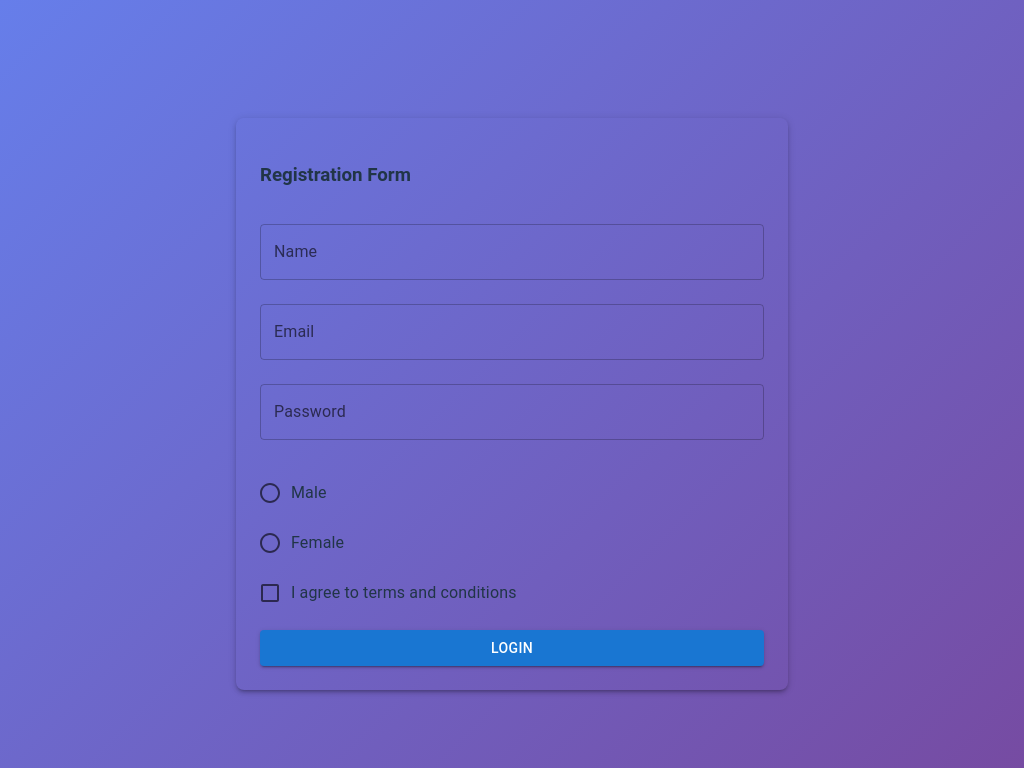
Scenario: Login Form Component › SHOWS ERROR when fields are empty
Click the button "login" at coordinates (512, 648), box [260, 630, 764, 666]
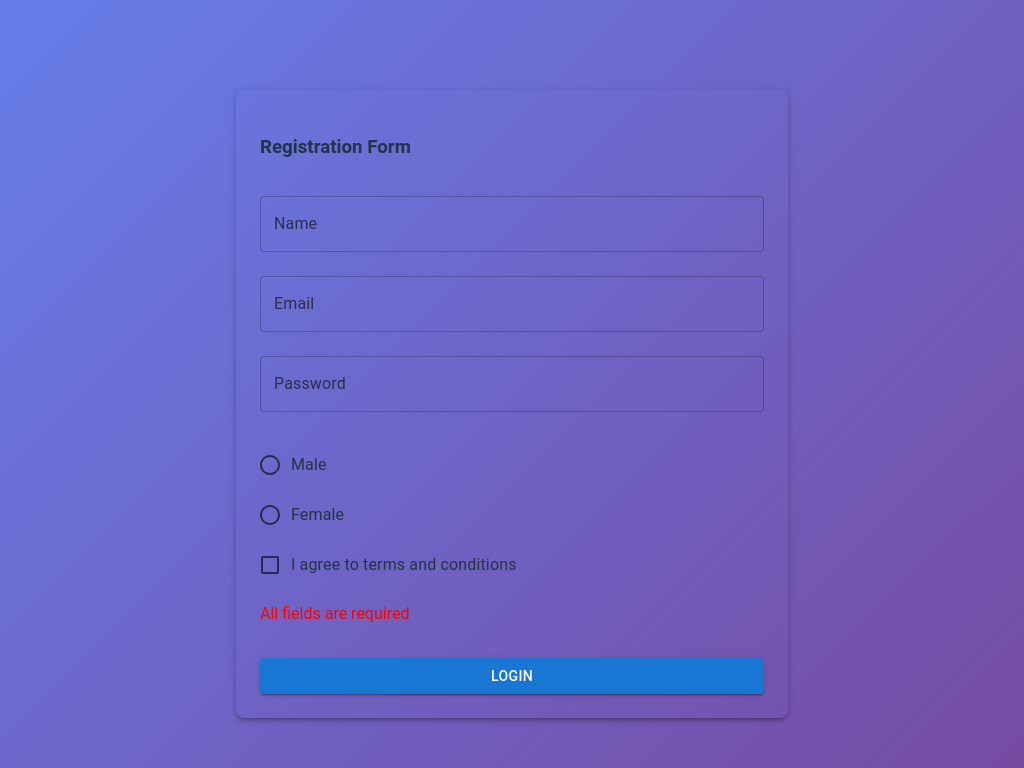
expect the text "All fields are required" is shown: met, box [260, 604, 410, 622]
